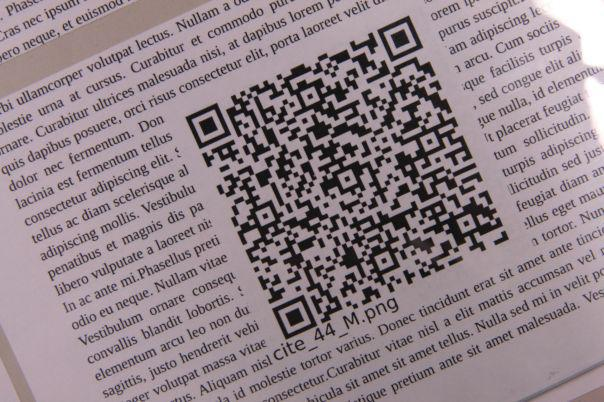Finder pattern: (269, 293, 319, 342), (378, 16, 425, 61), (185, 103, 232, 147)
